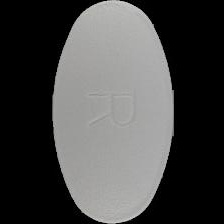35356-928: (0, 0, 224, 224)
